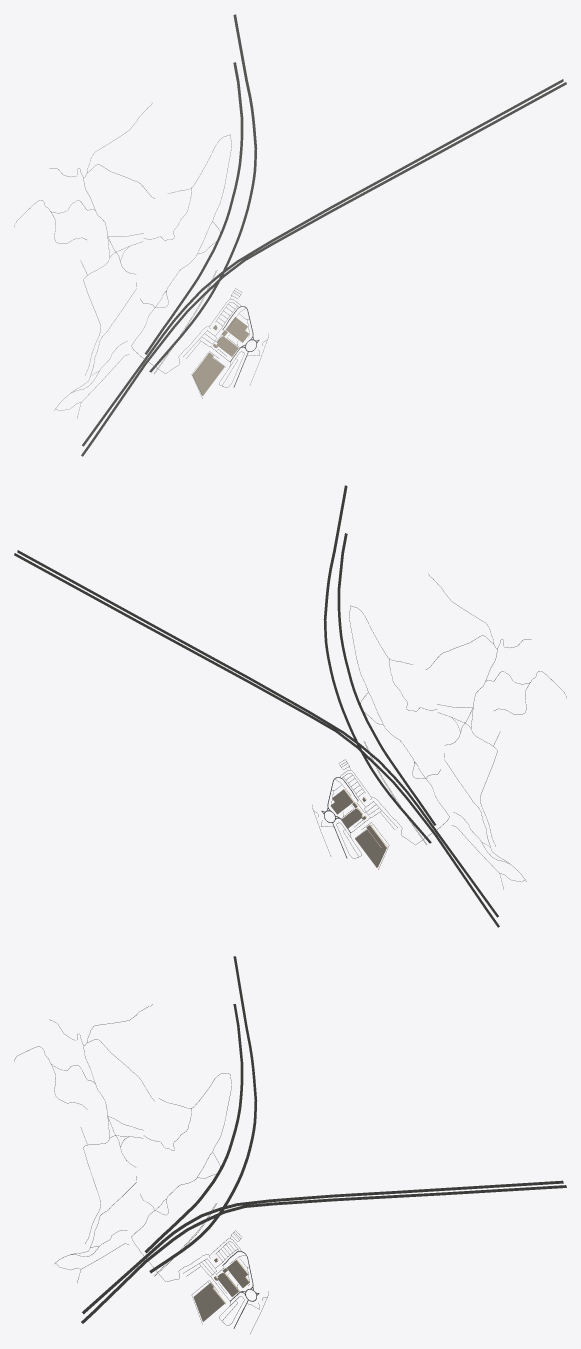
The model's file is historic-palestine-06_25_3475_3195.glb.
3 renders of one model, top to bottom at view 1: azimuth 30°, elevation 25°; view 2: azimuth 150°, elevation 25°; view 3: azimuth 330°, elevation 25°, orthographic.
Visible parts, largest first — view 1: Road 4.001, Road 4, Road איילון דרום, Road איילון צפון, Building_.006; view 2: Road 4.001, Road 4, Road איילון דרום, Road איילון צפון, Building_.006; view 3: Road 4.001, Road 4, Road איילון דרום, Road איילון צפון, Building_.006.
Part boxes in pixels (bbox=[...]): Road 4.001: bbox=[81, 82, 566, 456]; Road 4: bbox=[82, 79, 563, 446]; Road איילון דרום: bbox=[144, 62, 243, 354]; Road איילון צפון: bbox=[227, 14, 257, 263]; Building_.006: bbox=[192, 358, 224, 395]; Road 4.001: bbox=[14, 553, 499, 927]; Road 4: bbox=[17, 550, 498, 917]; Road איילון דרום: bbox=[337, 533, 436, 825]; Road איילון צפון: bbox=[323, 485, 353, 734]; Building_.006: bbox=[355, 829, 387, 867]; Road 4.001: bbox=[81, 1185, 566, 1323]; Road 4: bbox=[82, 1180, 563, 1314]; Road איילון דרום: bbox=[144, 1004, 243, 1253]; Road איילון צפון: bbox=[227, 956, 257, 1201]; Building_.006: bbox=[193, 1287, 225, 1321].
Size of the model in its own units: 2496 by 1748 by 10.5.
